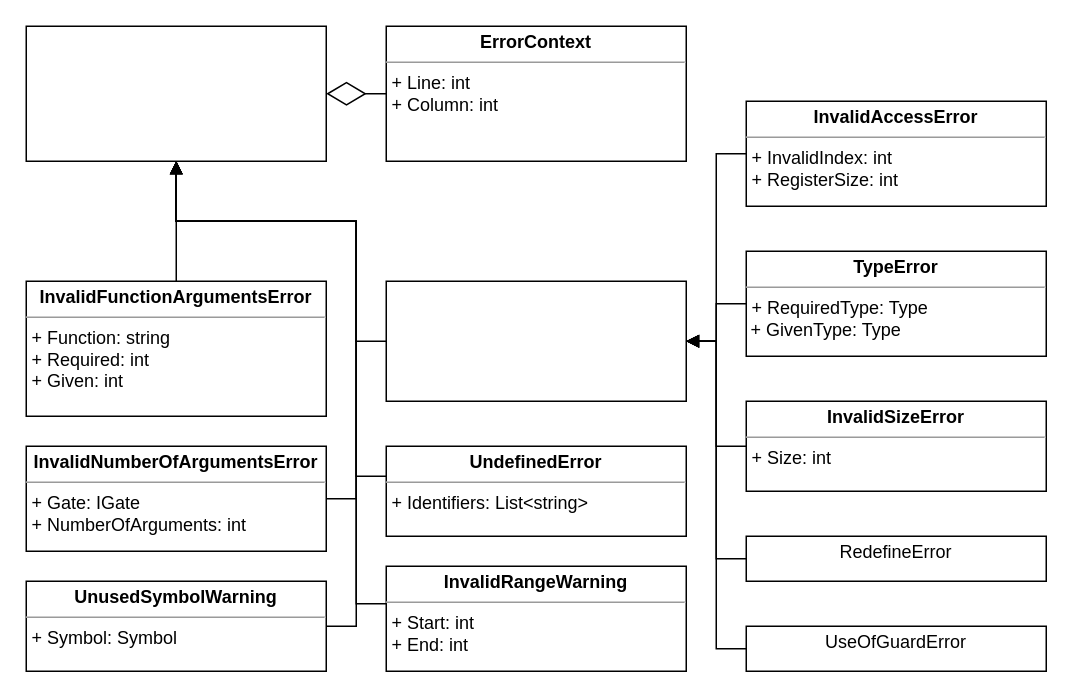
This 1073x698 diagram has some shape labels left out. The shapes that lost their labels are listed below. From the top down, each one's box as (x1, y1, x2, y2) in pixels, then its label:
(25, 25, 326, 161): CompilationError {abstract} + Description: string + ErrorContext: ErrorContext
(385, 280, 686, 401): IdentifierError {abstract} + Identifier: string
